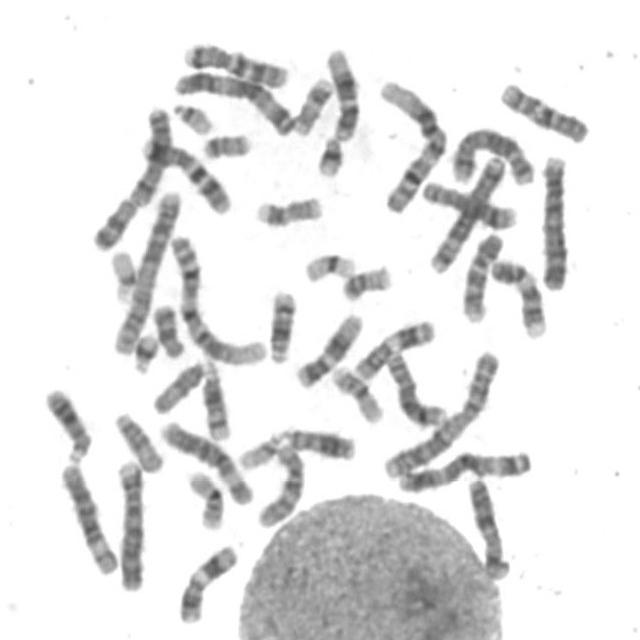A1: (163, 228, 269, 368), (371, 71, 450, 216)
A2: (377, 343, 502, 482), (106, 182, 184, 358)
A3: (166, 63, 297, 137), (393, 442, 535, 495)
B4: (534, 146, 572, 293), (110, 453, 148, 593)
B5: (422, 149, 509, 275), (444, 120, 537, 187)
C10: (493, 76, 592, 146), (250, 436, 307, 530)
C11: (347, 312, 438, 382), (172, 538, 240, 626)
C12: (289, 304, 366, 390), (320, 40, 363, 142)
C6: (154, 413, 256, 508), (54, 456, 121, 577)
C7: (135, 131, 235, 215), (177, 34, 292, 89)
C8: (416, 174, 519, 231), (380, 344, 449, 429)
C9: (485, 251, 550, 340), (455, 225, 506, 324)
D13: (38, 380, 94, 464), (274, 420, 358, 462)
D14: (195, 353, 234, 442), (262, 282, 299, 365)
D15: (107, 404, 166, 474), (146, 353, 211, 415)
E16: (325, 358, 386, 426), (180, 464, 227, 532)
E17: (249, 188, 326, 229), (288, 70, 335, 137)
E18: (87, 198, 147, 253), (147, 296, 188, 360)
F19: (297, 245, 358, 284), (104, 242, 140, 304)
F20: (336, 258, 394, 304), (196, 125, 254, 160)
G21: (125, 326, 161, 376), (310, 128, 346, 178)
G22: (232, 426, 284, 472), (166, 95, 215, 136)
X: (121, 105, 184, 212), (461, 472, 510, 580)
